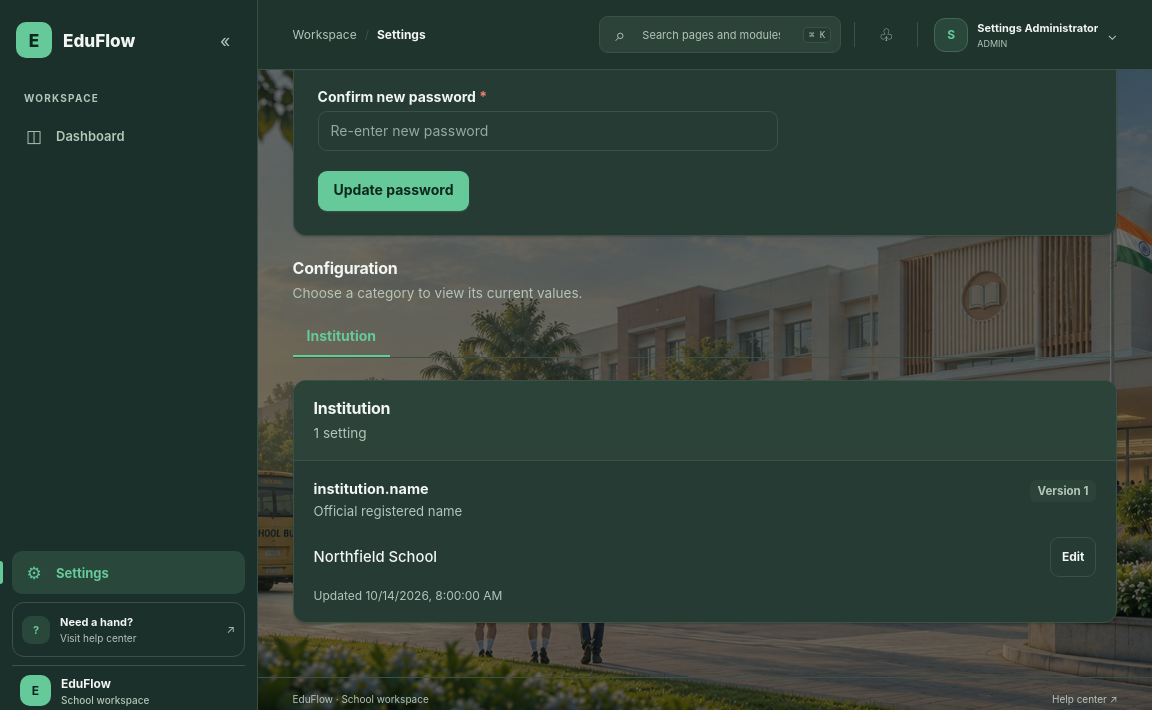
Settings workspace › keeps the edit open and displays an API error when save fails
(page scrolled)
Click the button "Edit".
click(1073, 557)  # box [1050,537,1096,577]
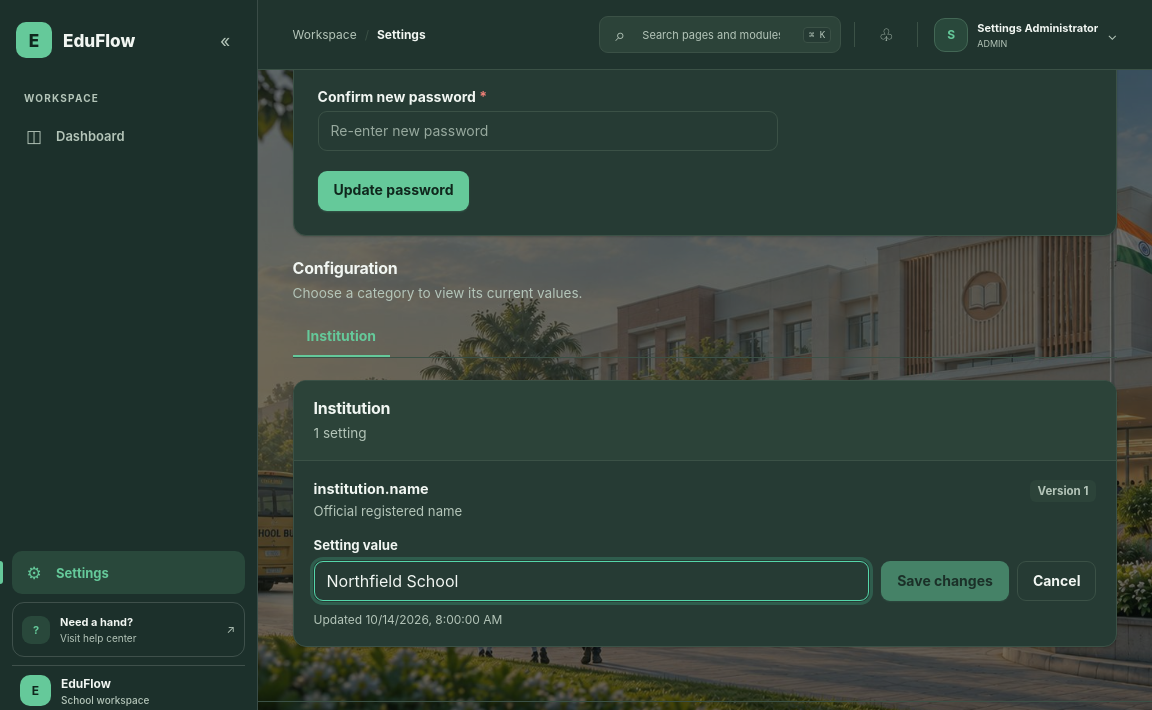
Replace the text in the field labelled "Setting value" with "Changed" at point(591, 581), box [314,561,869,601]
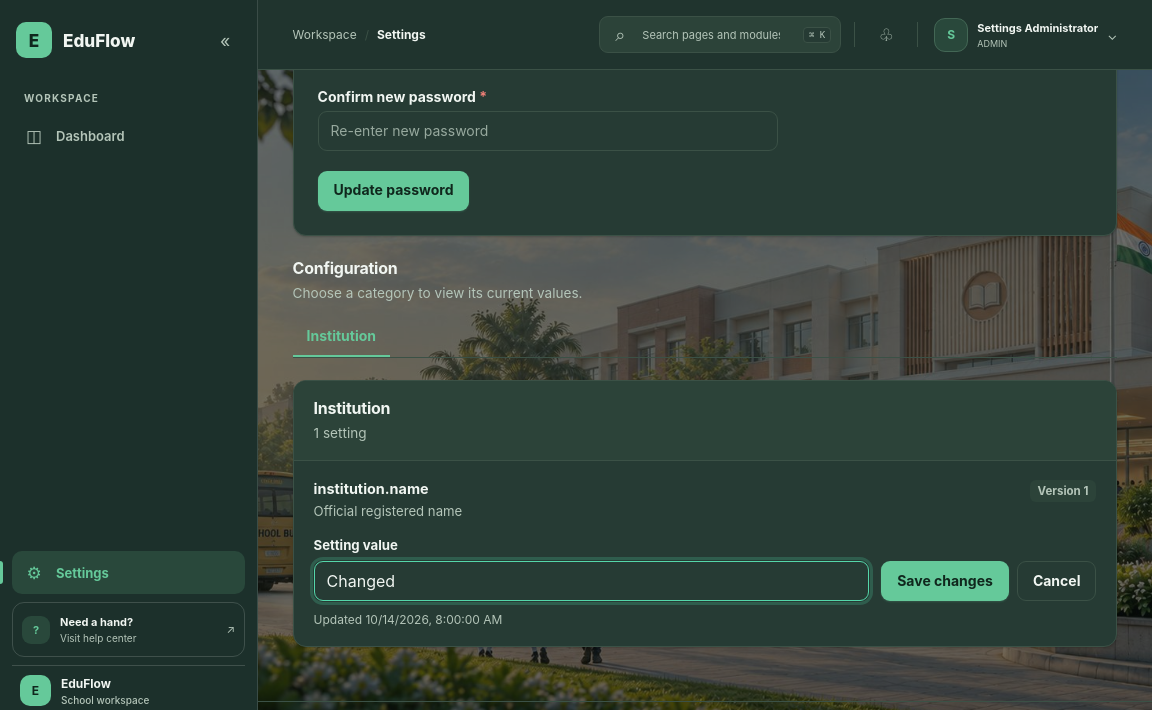
Click the button "Save changes".
click(945, 581)  # box [881,561,1009,601]
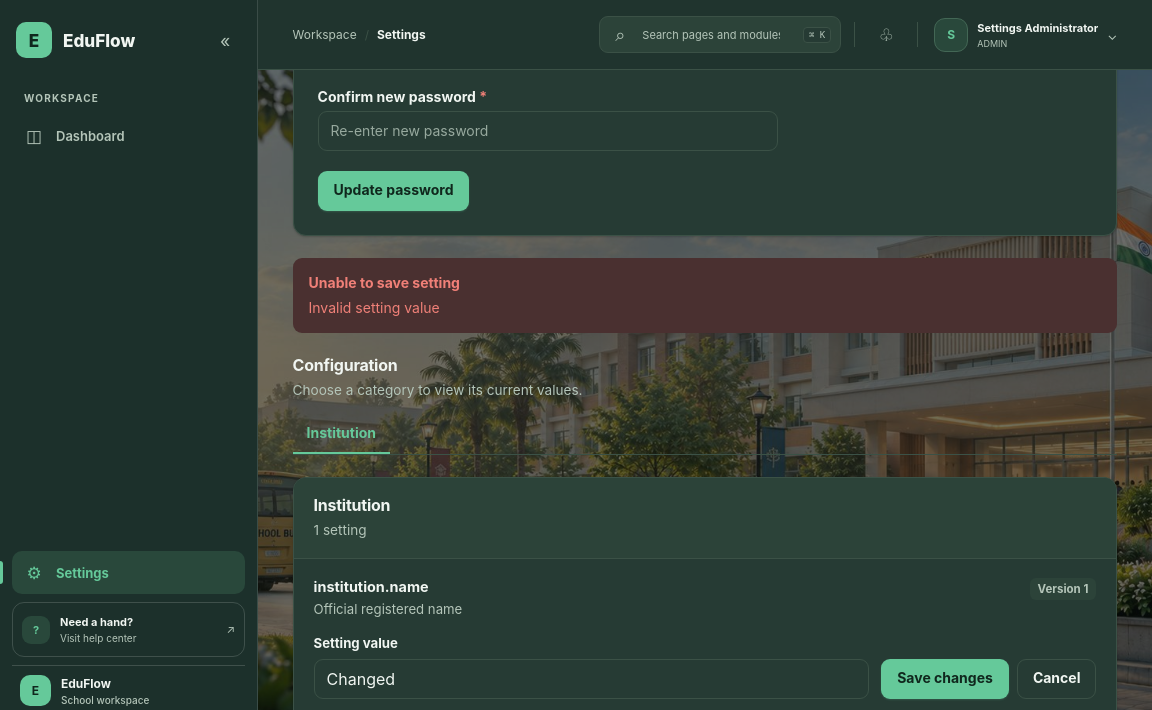
Check: the message shows "Invalid setting value", box [308,299,440,316]
